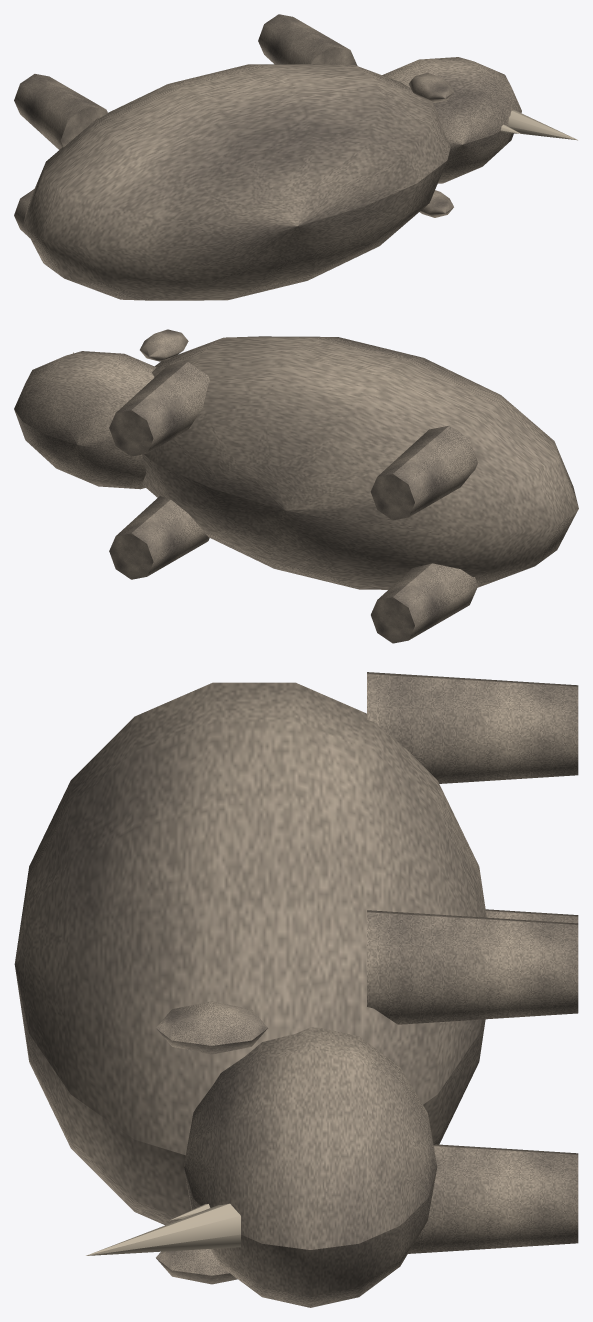
The model's file is rhino.obj.
3 renders of one model, top to bottom at view 1: azimuth 30°, elevation 25°; view 2: azimuth 150°, elevation 25°; view 3: azimuth 270°, elevation 25°, orthographic. The views are drawn at different scales.
Bounding box in the file's own units: 4.12 × 1.54 × 2.
2 materials, 1 textured.
